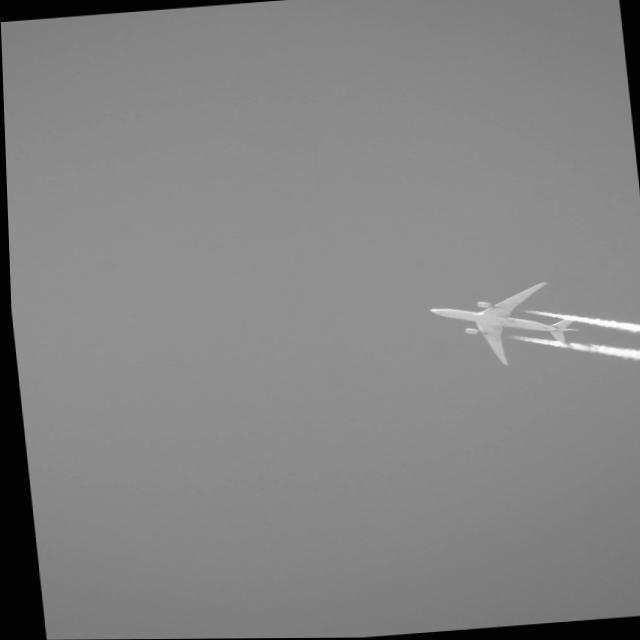aeroplane: (419, 278, 581, 374)
